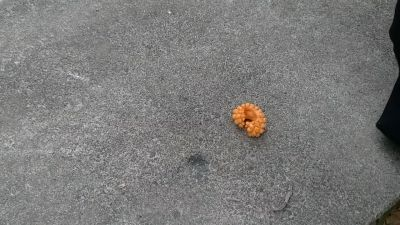eggs: (231, 100, 268, 140)
